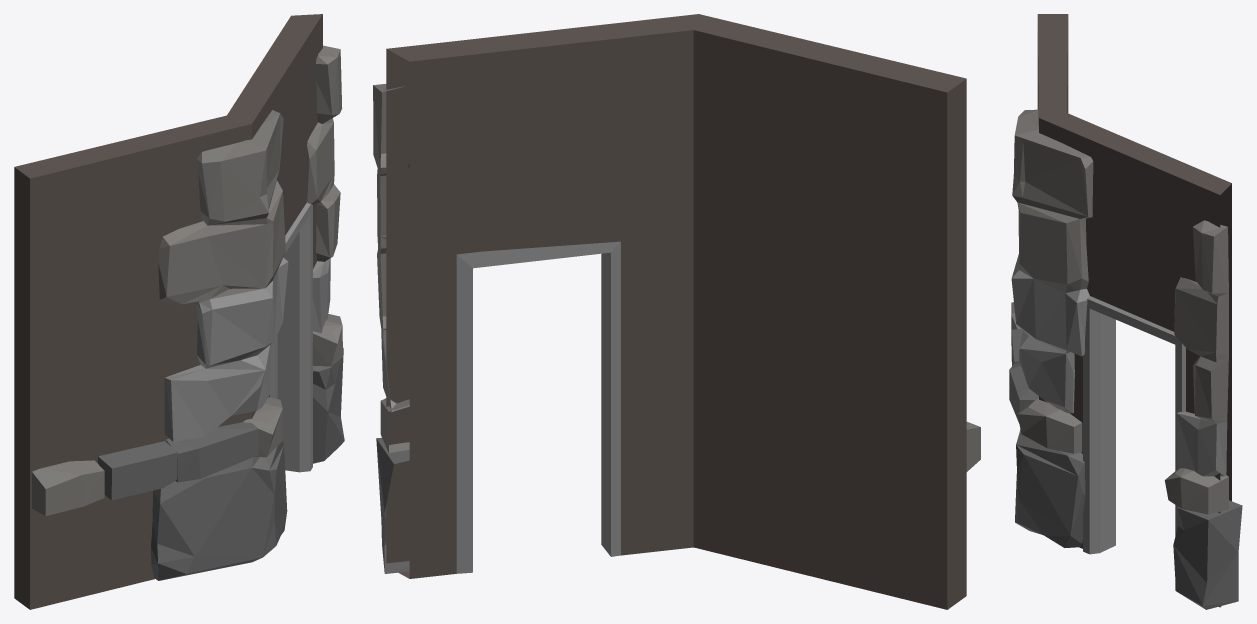
The model's file is MCastle_OctWalls_Border_Door_02.FBX.
3 views of the same model, side by side, from view 1: azimuth 30°, elevation 25°; view 2: azimuth 150°, elevation 25°; view 3: azimuth 270°, elevation 25° (orthographic). The views are drawn at different scales.
Visible parts, largest first — view 1: MCastle_OctWalls_Border_Door_02_LOD0; view 2: MCastle_OctWalls_Border_Door_02_LOD0; view 3: MCastle_OctWalls_Border_Door_02_LOD0.
Boxes of the visible parts, box(x1,y1,x2,y2) form: MCastle_OctWalls_Border_Door_02_LOD0: box(14, 14, 344, 609); MCastle_OctWalls_Border_Door_02_LOD0: box(373, 14, 980, 609); MCastle_OctWalls_Border_Door_02_LOD0: box(1009, 14, 1242, 609).
Size of what is drawn, in the model's own units: 4.37 by 4.46 by 2.29.
